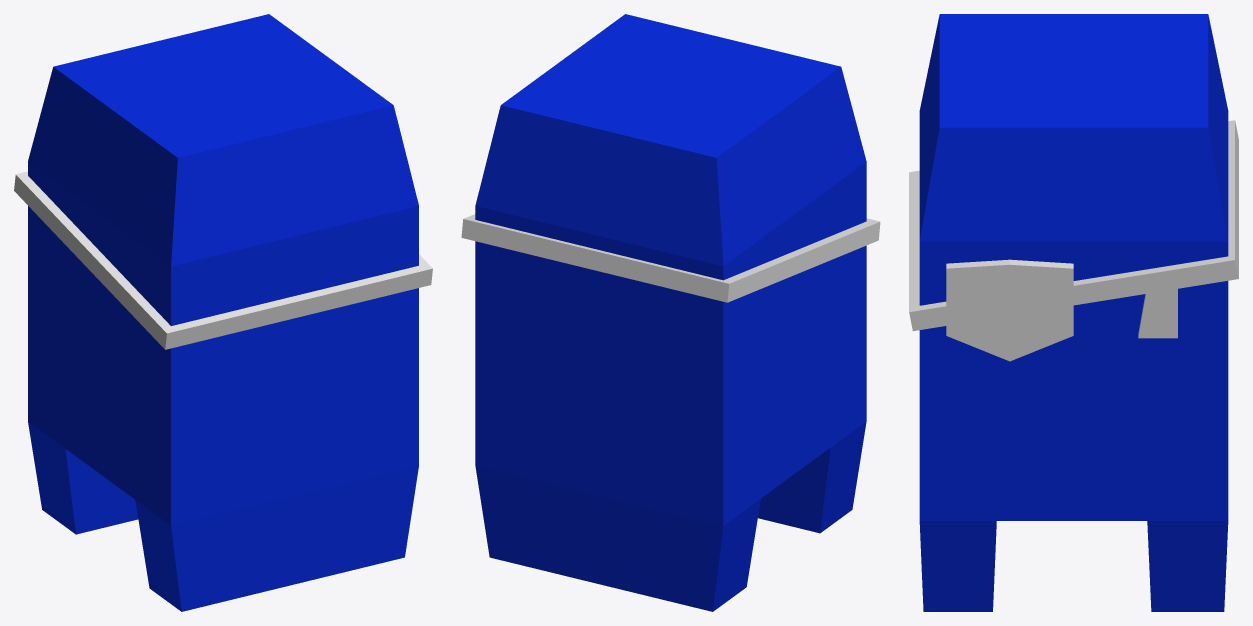
File: burst.fbx
3 views of the same model, side by side, from view 1: azimuth 30°, elevation 25°; view 2: azimuth 150°, elevation 25°; view 3: azimuth 270°, elevation 25° (orthographic). The views are drawn at different scales.
Visible parts, largest first — view 1: Cube, Cube.002; view 2: Cube, Cube.002; view 3: Cube, Cube.001, Cube.002, Cube.003.
Part boxes in pixels (x1,y1,x2,y2): Cube: (28, 14, 418, 611); Cube.002: (14, 171, 432, 349); Cube: (475, 14, 866, 611); Cube.002: (461, 214, 880, 302); Cube: (919, 14, 1228, 611); Cube.001: (946, 259, 1073, 361); Cube.002: (909, 120, 1238, 330); Cube.003: (1138, 289, 1177, 338).
Size of the model in its own units: 215 by 345 by 214.
